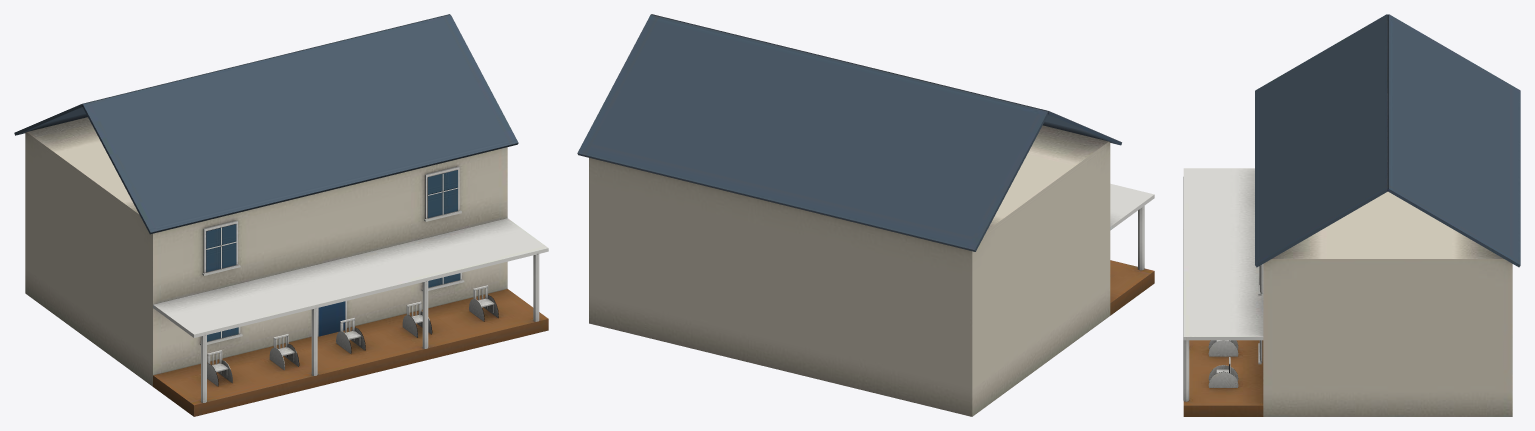
File: casa_mecedoras.glb
3 views of the same model, side by side, from view 1: azimuth 30°, elevation 25°; view 2: azimuth 150°, elevation 25°; view 3: azimuth 270°, elevation 25° (orthographic). The views are drawn at different scales.
Parts seen in each view (by area): view 1: casa_mecedoras; view 2: casa_mecedoras; view 3: casa_mecedoras.
Part boxes in pixels (x1,y1,x2,y2): casa_mecedoras: (14,14,548,416); casa_mecedoras: (577,14,1154,416); casa_mecedoras: (1183,14,1520,416).
Bounding box in the file's own units: 16.6 × 10.25 × 13.55.
1 material, 1 textured.
